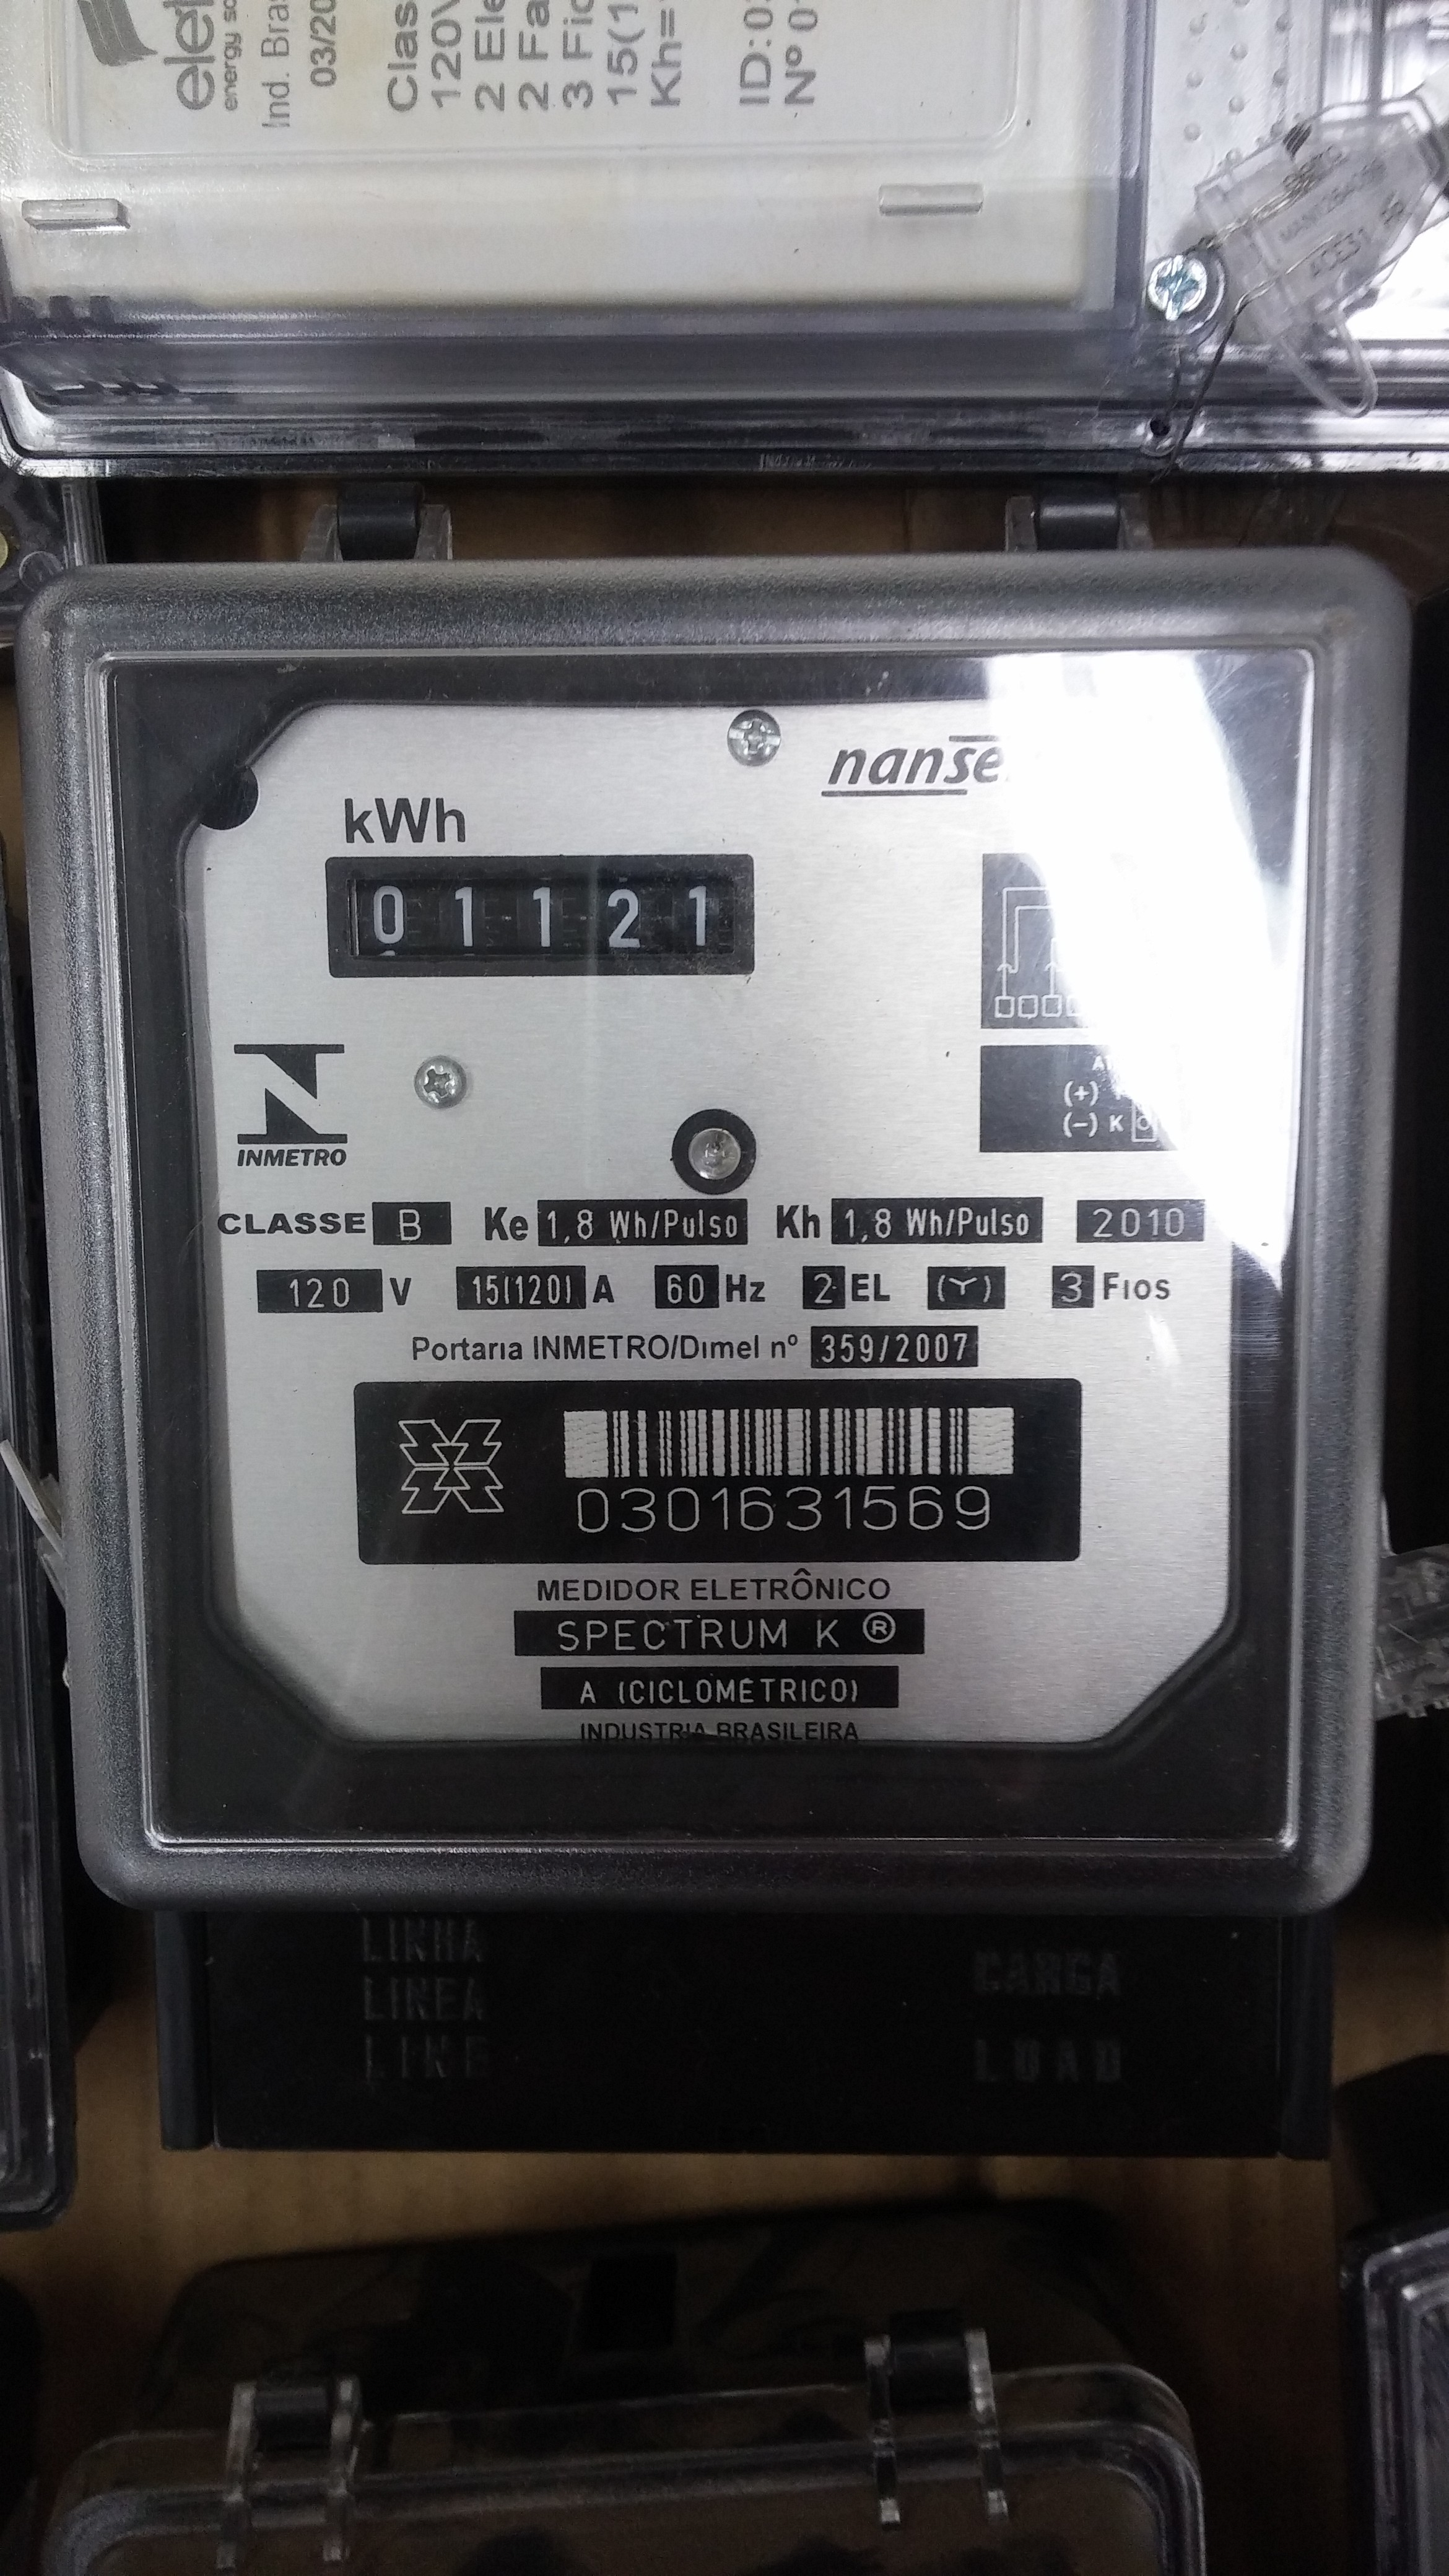counter3: (310, 847, 777, 996)
